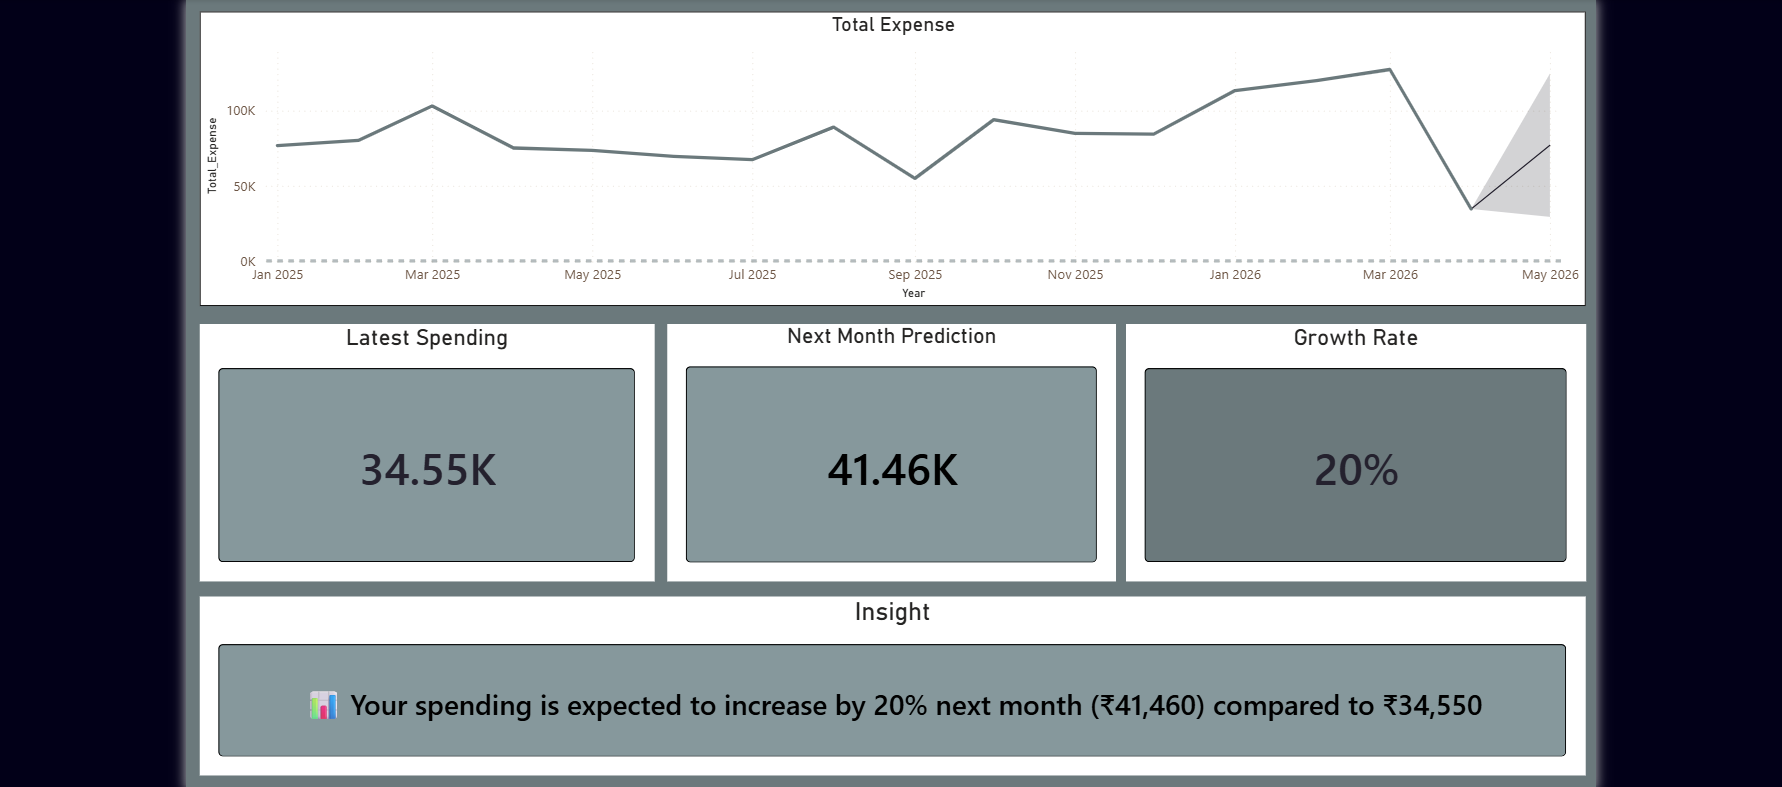

This screenshot's page, from the dashboard's own definition file:
{"tool":"powerbi","page":{"name":"Page3","canvas":[1280,720],"ordinal":2},"visuals":[{"type":"lineChart","title":"Total Expense ","fields":{"Y":["expenses.Total_Expense"],"Category":["expenses.YearMonth.Variation.Date Hierarchy.Year","expenses.YearMonth.Variation.Date Hierarchy.Quarter","expenses.YearMonth.Variation.Date Hierarchy.Month","expenses.YearMonth.Variation.Date Hierarchy.Day"]},"box":[12.5,11.2,1257.5,267.5],"z":0},{"type":"cardVisual","title":"Latest Spending","fields":{"Data":["expenses.Latest Month Expense"]},"box":[12.5,295,412.5,233.8],"z":1000},{"type":"cardVisual","title":"Next Month Prediction ","fields":{"Data":["expenses.Prediction (Approx)"]},"box":[436.7,294.9,407.2,233.6],"z":2000},{"type":"cardVisual","title":"Growth Rate ","fields":{"Data":["expenses.Increase %"]},"box":[852.9,294.9,417.4,233.6],"z":3000},{"type":"cardVisual","title":"Insight","fields":{"Data":["expenses.Insight Text"]},"box":[12.5,542.5,1257.5,162.5],"z":4000}]}

Visuals, with their boxes on the page's 1280x720 design canvas (x1, y1, x2, y2). These are canvas units, not pixel positions in the 1782x787 screenshot, which may show the page scaled, cropped or inside an application window:
"Total Expense " lineChart: bbox=(12, 11, 1270, 279)
"Latest Spending" cardVisual: bbox=(12, 295, 425, 529)
"Next Month Prediction " cardVisual: bbox=(437, 295, 844, 528)
"Growth Rate " cardVisual: bbox=(853, 295, 1270, 528)
"Insight" cardVisual: bbox=(12, 542, 1270, 705)
